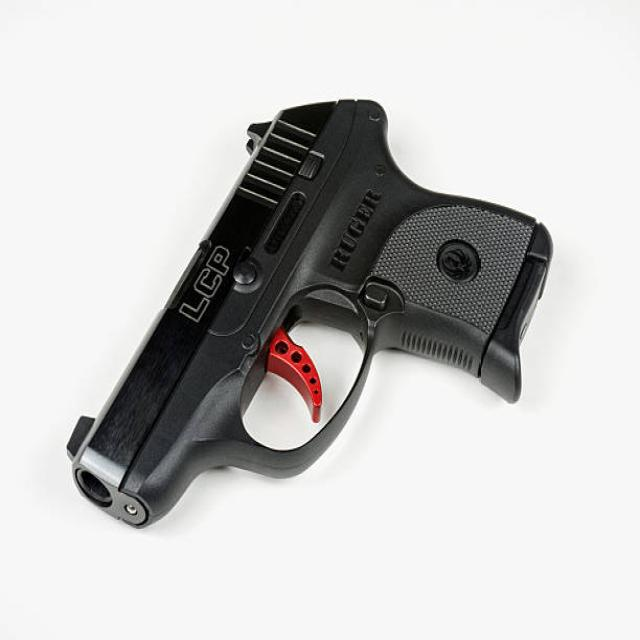pistol: (63, 88, 560, 537)
